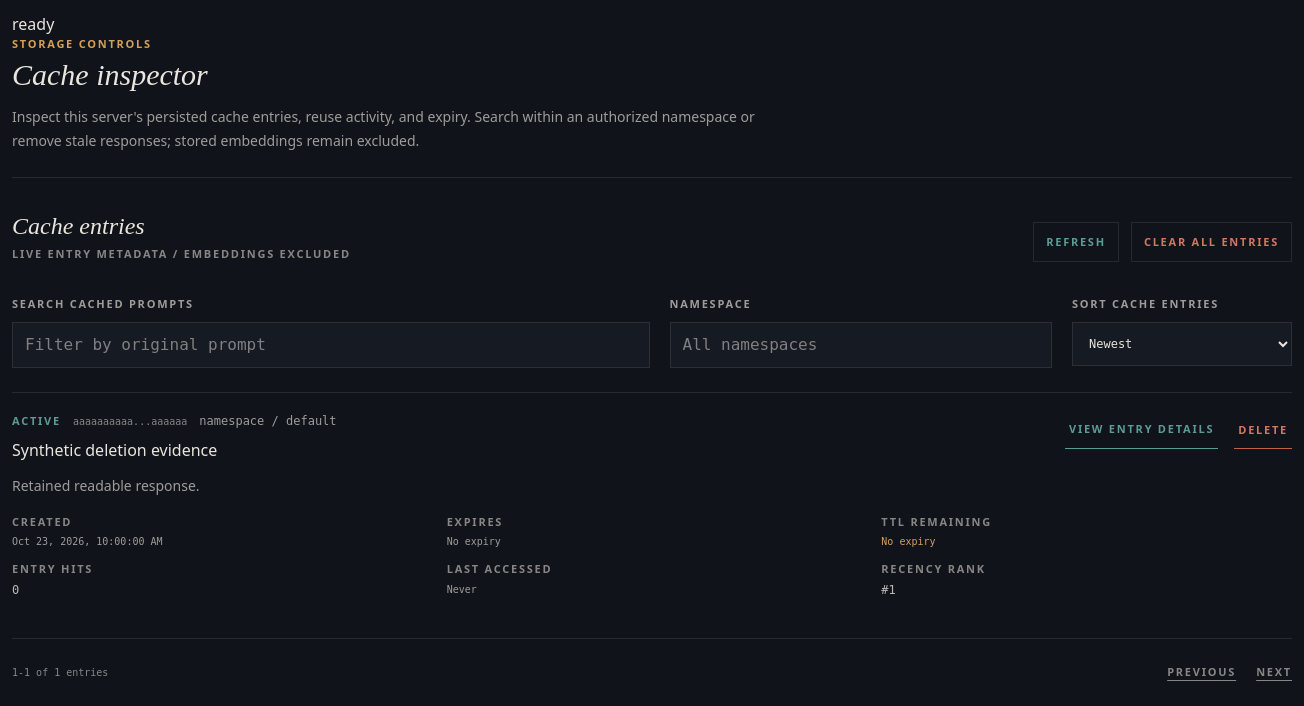
Test: confirmed and unconfirmed cache mutation outcomes › reports list lost confirmation as unknown without retry
Expected: the heading "Synthetic deletion evidence" is shown, x1=12 y1=438 x2=217 y2=460
Expected: the text named "Readings state" reads "ready", x1=12 y1=13 x2=54 y2=35
Click the button "Delete": (1263, 431) x1=1234 y1=413 x2=1292 y2=449
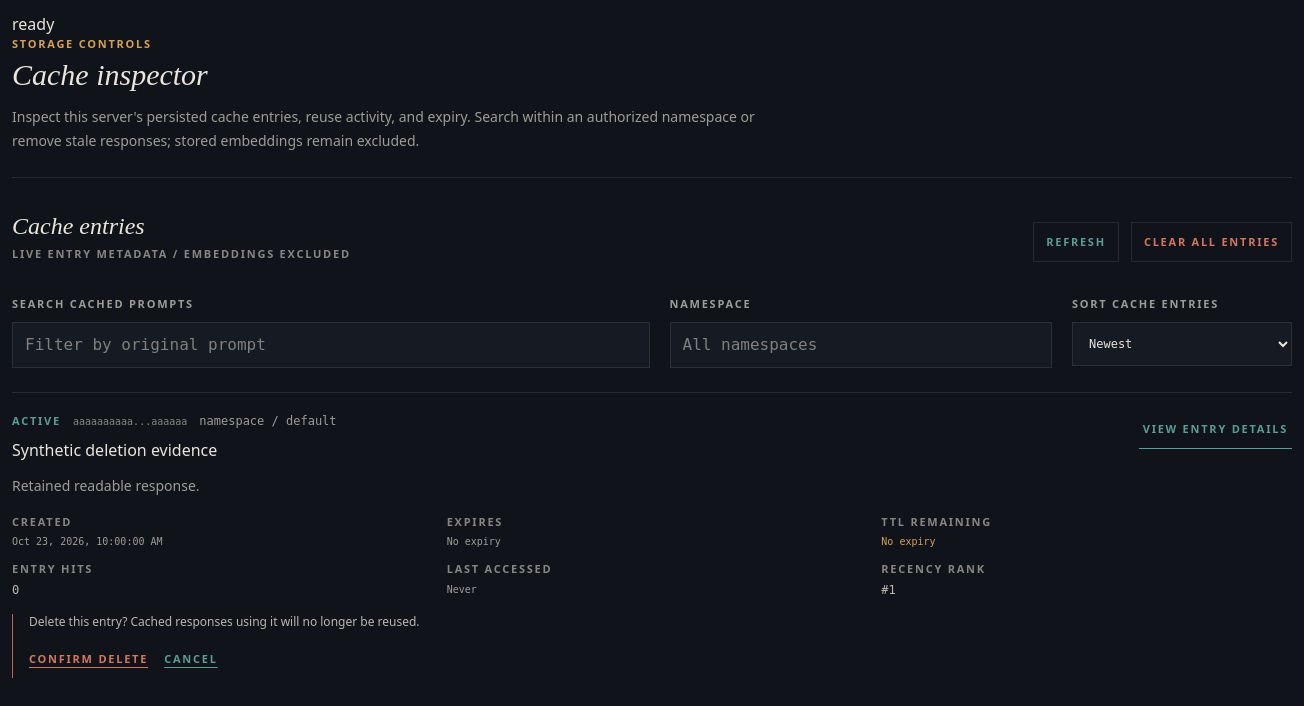
Click the button "Confirm delete": (89, 660) x1=29 y1=642 x2=148 y2=678
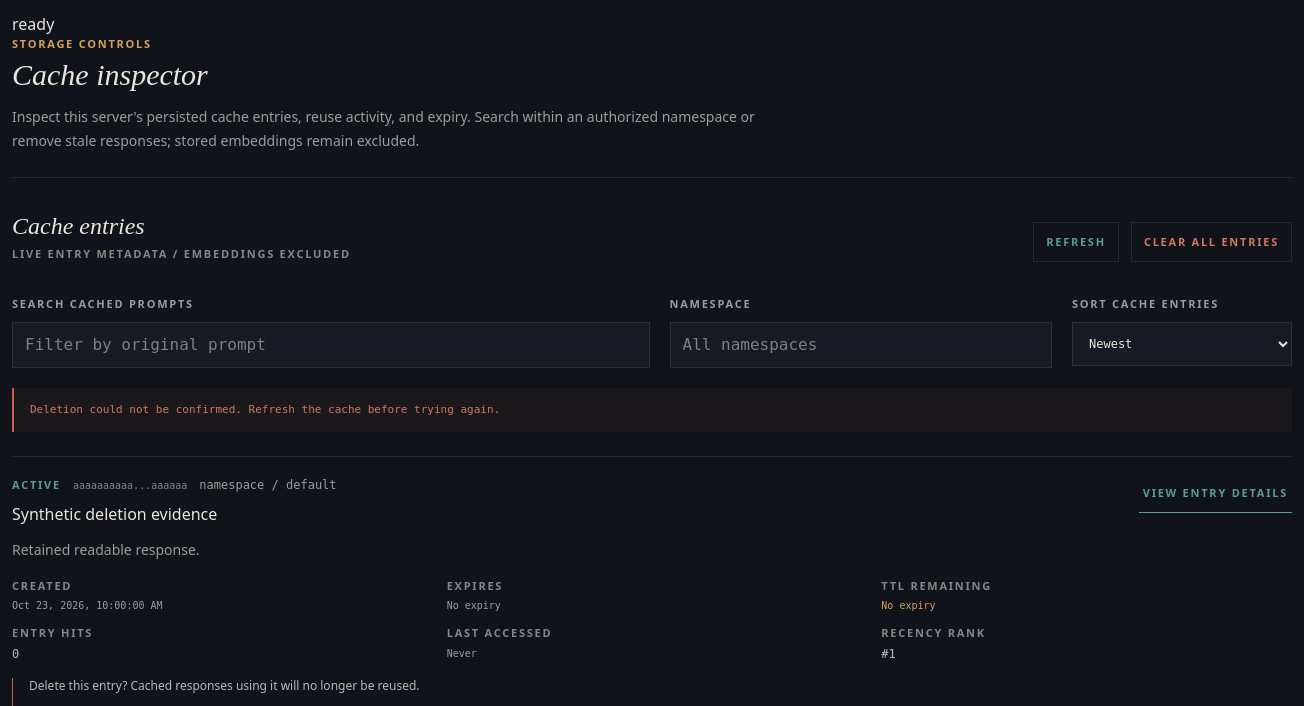
Expected: the heading "Synthetic deletion evidence" is shown, x1=12 y1=502 x2=217 y2=524
Expected: the message reads "Deletion could not be confirmed. Refresh the cache before trying again.", x1=30 y1=403 x2=500 y2=416
